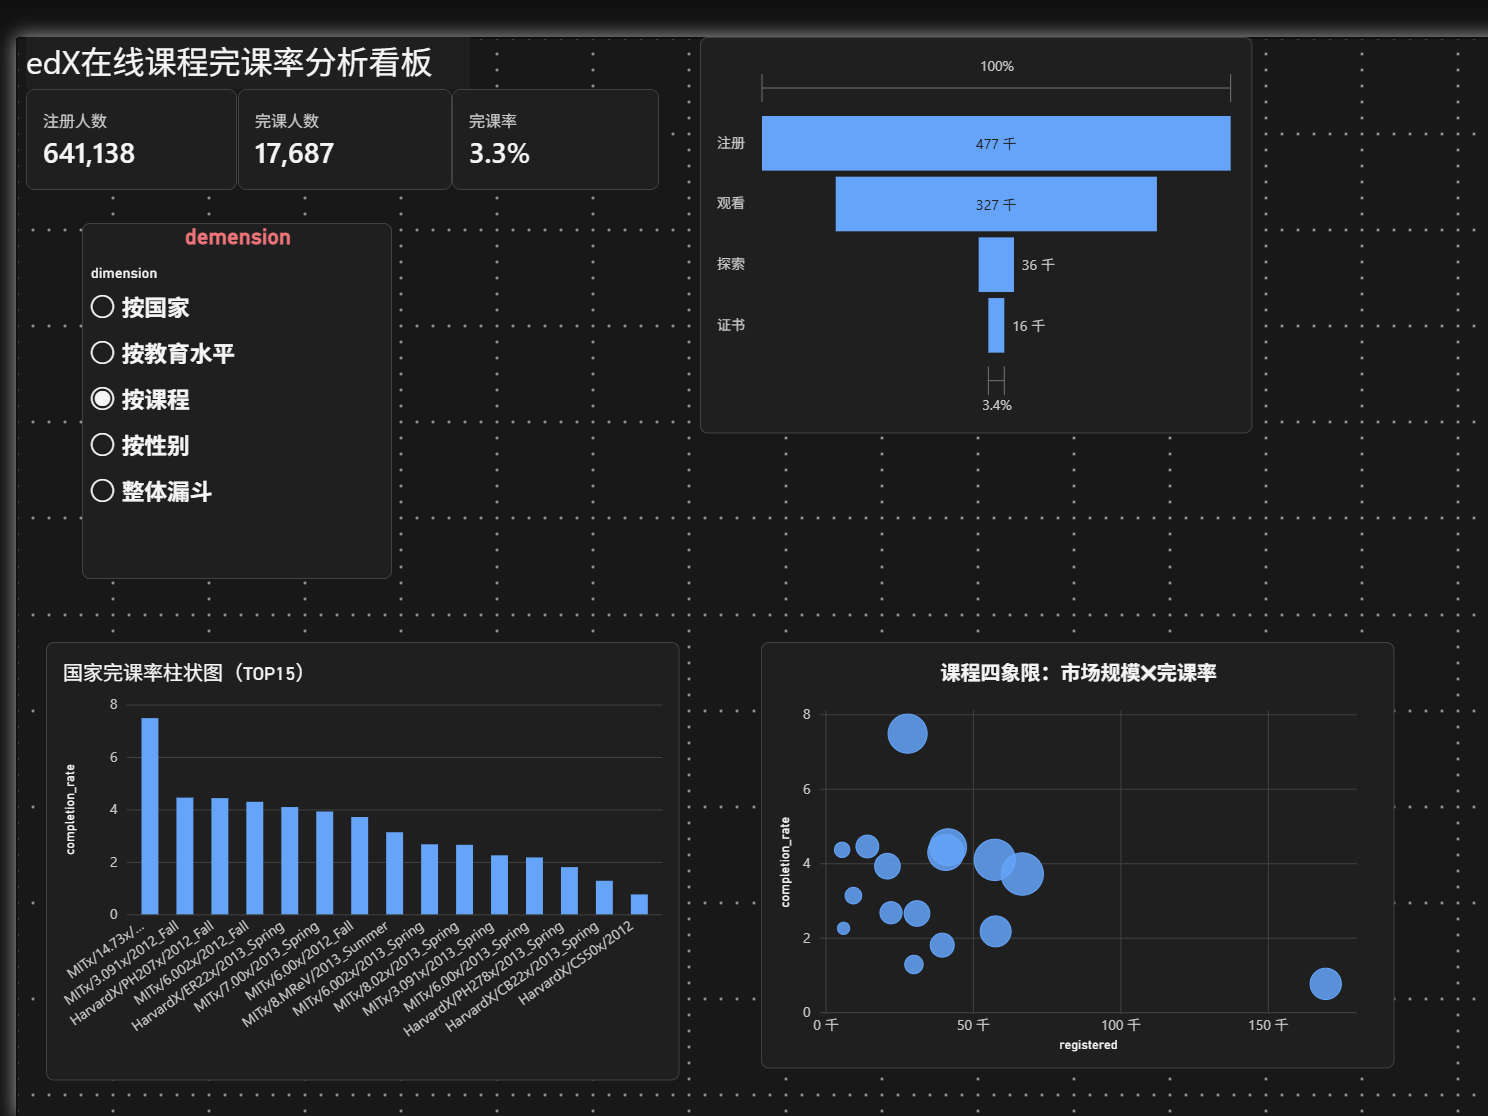

The dashboard page shown, as its layout file describes it:
{"tool":"powerbi","page":{"name":"第 1 页","canvas":[1920,1080],"ordinal":0},"visuals":[{"type":"textbox","box":[10,0,444,52],"z":0},{"type":"cardVisual","title":"注册人数","fields":{"Data":["edx_pbi_summary.注册人数"]},"box":[10,52.2,211.1,101.1],"z":1000},{"type":"cardVisual","fields":{"Data":["edx_pbi_summary.完课人数"]},"box":[221.1,52.2,214.4,101.1],"z":2000},{"type":"cardVisual","fields":{"Data":["edx_pbi_summary.完课率"]},"box":[435.6,52.2,207.8,101.1],"z":3000},{"type":"funnel","title":"漏斗图","fields":{"Category":["funnel_data.stage"],"Y":["Sum(funnel_data.users)"]},"box":[684.2,0,551.7,396.7],"z":3001},{"type":"scatterChart","title":"课程四象限：市场规模✖完课率","fields":{"Category":["edx_pbi_summary.category"],"Size":["Sum(edx_pbi_summary.certified)"],"X":["Sum(edx_pbi_summary.registered)"],"Y":["Sum(edx_pbi_summary.completion_rate)"]},"box":[743.3,603.3,633.3,426.7],"z":3002},{"type":"clusteredColumnChart","title":"国家完课率柱状图（TOP15）","fields":{"Category":["edx_pbi_summary.category"],"Y":["Sum(edx_pbi_summary.completion_rate)"]},"box":[30,603.3,633.3,438.3],"z":3003},{"type":"slicer","title":"demension","fields":{"Values":["edx_pbi_summary.dimension"]},"box":[66.7,185,310,355],"z":3004}]}

Visuals, with their boxes on the page's 1920x1080 design canvas (x1, y1, x2, y2). These are canvas units, not pixel positions in the 1488x1116 screenshot, which may show the page scaled, cropped or inside an application window:
textbox: (left=10, top=0, right=454, bottom=52)
"注册人数" cardVisual: (left=10, top=52, right=221, bottom=153)
cardVisual - edx_pbi_summary.完课人数: (left=221, top=52, right=436, bottom=153)
cardVisual - edx_pbi_summary.完课率: (left=436, top=52, right=643, bottom=153)
"漏斗图" funnel: (left=684, top=0, right=1236, bottom=397)
"课程四象限：市场规模✖完课率" scatterChart: (left=743, top=603, right=1377, bottom=1030)
"国家完课率柱状图（TOP15）" clusteredColumnChart: (left=30, top=603, right=663, bottom=1042)
"demension" slicer: (left=67, top=185, right=377, bottom=540)
